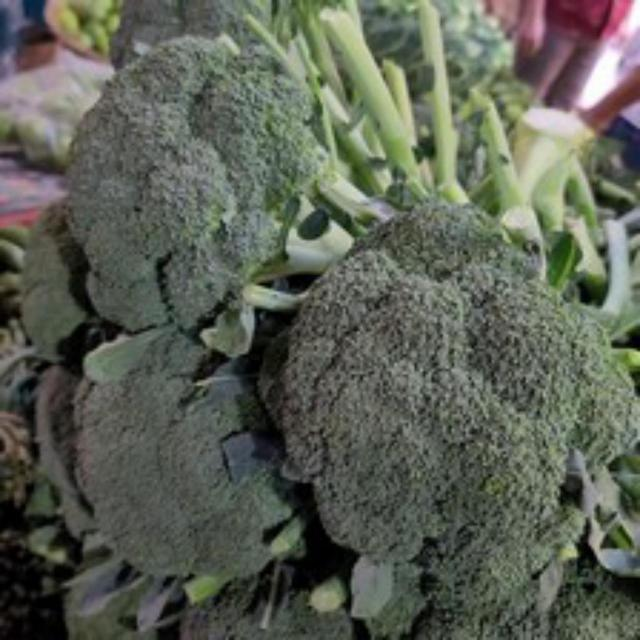broccoli: (277, 194, 637, 597)
